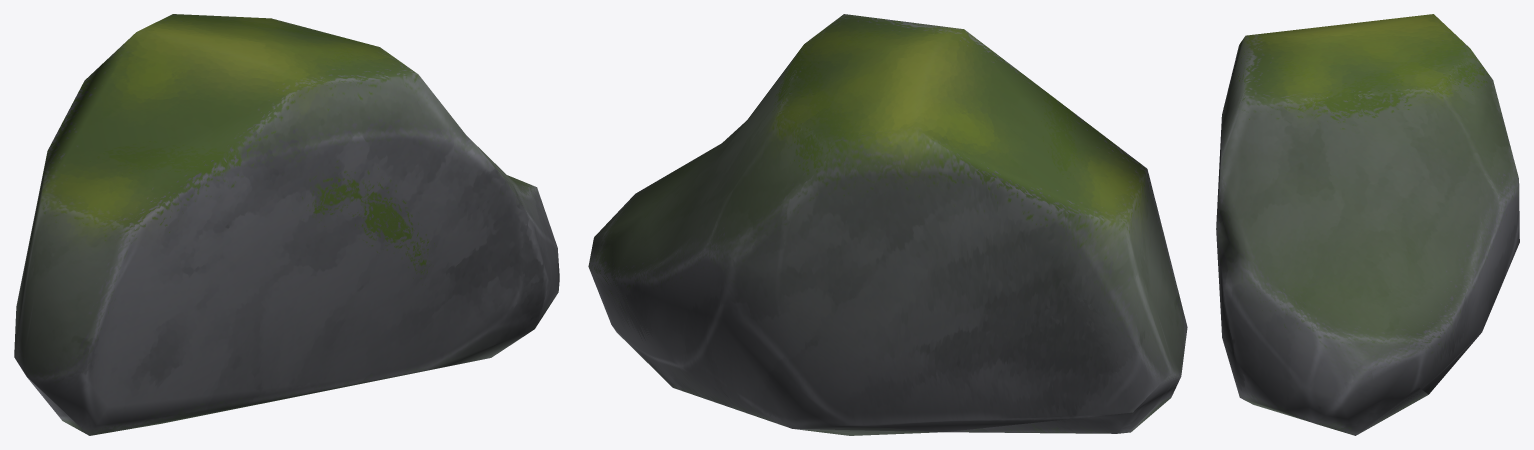
The model's file is Stone1_Moss2.fbx.
The picture shows the model from 3 angles, left to right: view 1: azimuth 30°, elevation 25°; view 2: azimuth 150°, elevation 25°; view 3: azimuth 270°, elevation 25°; orthographic projection. The views are drawn at different scales.
Visible parts, largest first — view 1: Stone1_Moss2; view 2: Stone1_Moss2; view 3: Stone1_Moss2.
Boxes of the visible parts, x1,y1,x2,y2 form: Stone1_Moss2: (14,14,559,435); Stone1_Moss2: (588,14,1187,435); Stone1_Moss2: (1216,14,1519,435).
Bounding box in the file's own units: 200 × 114 × 108.
1 material, 1 textured.
